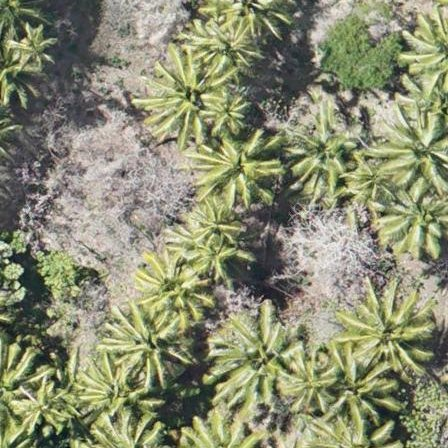palm_tree: (341, 281, 429, 375), (144, 49, 229, 139), (213, 310, 296, 399), (373, 100, 448, 194), (106, 300, 181, 379), (200, 125, 273, 204), (377, 181, 448, 262), (270, 342, 345, 414), (288, 107, 357, 181), (73, 358, 155, 419), (133, 255, 205, 322), (399, 1, 448, 94), (210, 1, 288, 37), (16, 384, 71, 435), (9, 25, 58, 71)
